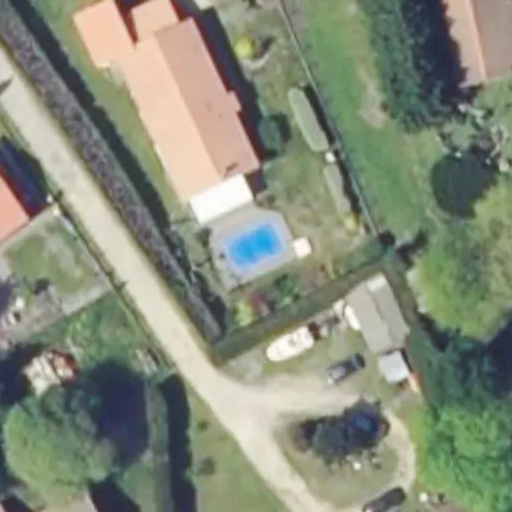pool: (227, 224, 285, 270)
